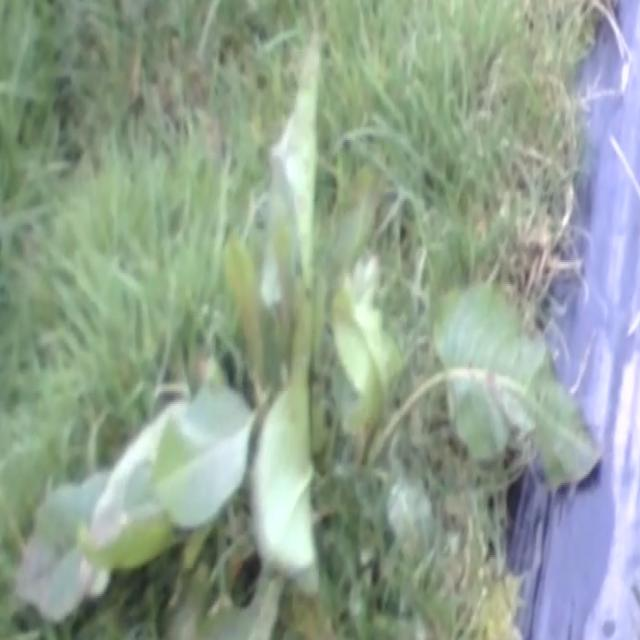organic waste: (334, 238, 628, 519), (247, 69, 402, 559), (24, 374, 280, 614)
